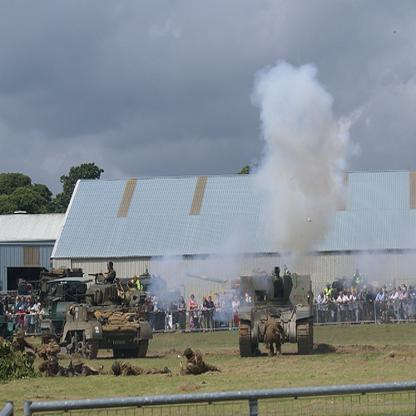Tank: (227, 265, 322, 365), (62, 274, 161, 361)
